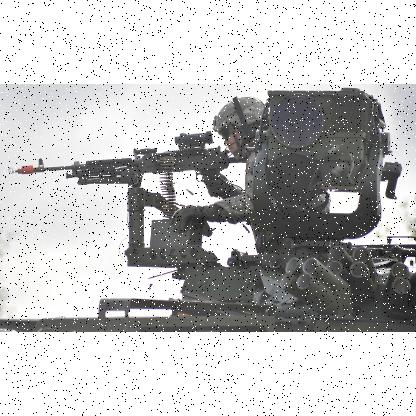gun: (8, 129, 246, 264)
